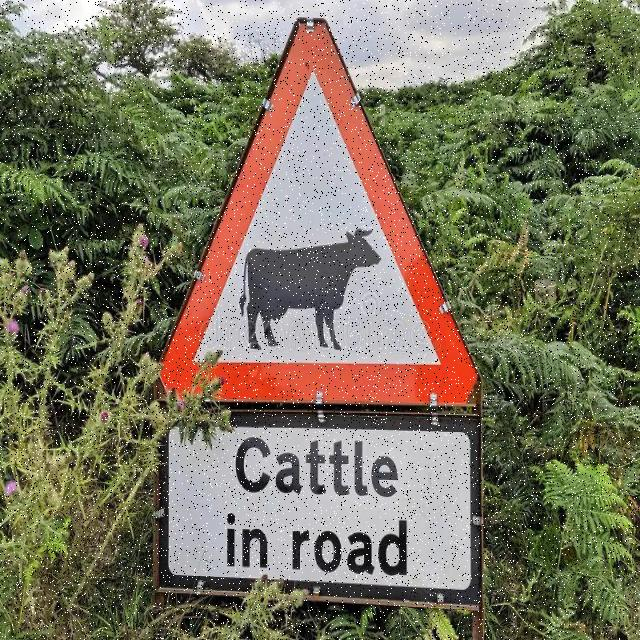cattle: (156, 12, 484, 425)
